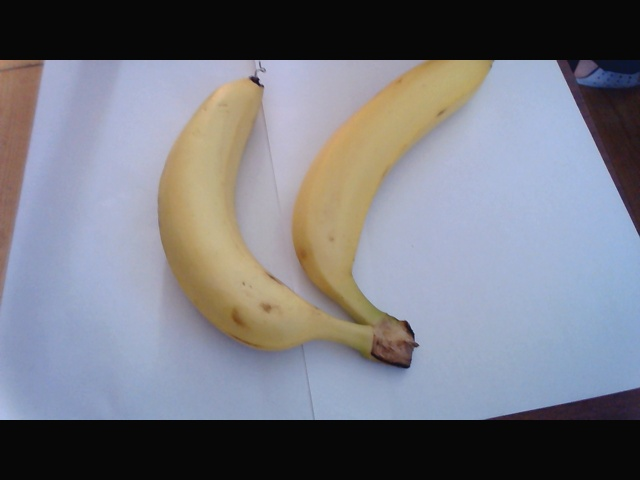banana: (303, 56, 498, 354), (152, 69, 304, 354)
